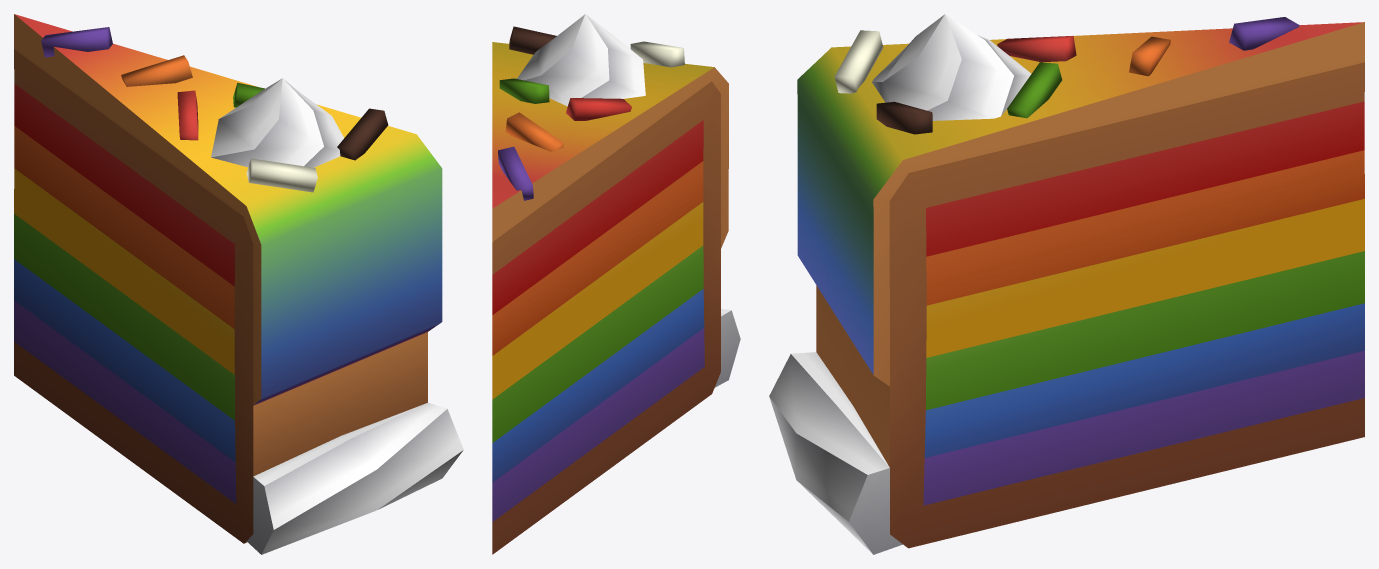
Rendered from m_RainbowCake01_Slice01.fbx.
3 views of the same model, side by side, from view 1: azimuth 30°, elevation 25°; view 2: azimuth 150°, elevation 25°; view 3: azimuth 270°, elevation 25° (orthographic). The views are drawn at different scales.
Visible parts, largest first — view 1: m_RainbowCake01_Slice01; view 2: m_RainbowCake01_Slice01; view 3: m_RainbowCake01_Slice01.
Boxes of the visible parts, x1=… form: m_RainbowCake01_Slice01: x1=14, y1=14, x2=463, y2=554; m_RainbowCake01_Slice01: x1=492, y1=14, x2=740, y2=554; m_RainbowCake01_Slice01: x1=769, y1=14, x2=1364, y2=554.
Size of the model in its own units: 7.87 by 13.31 by 15.21.
